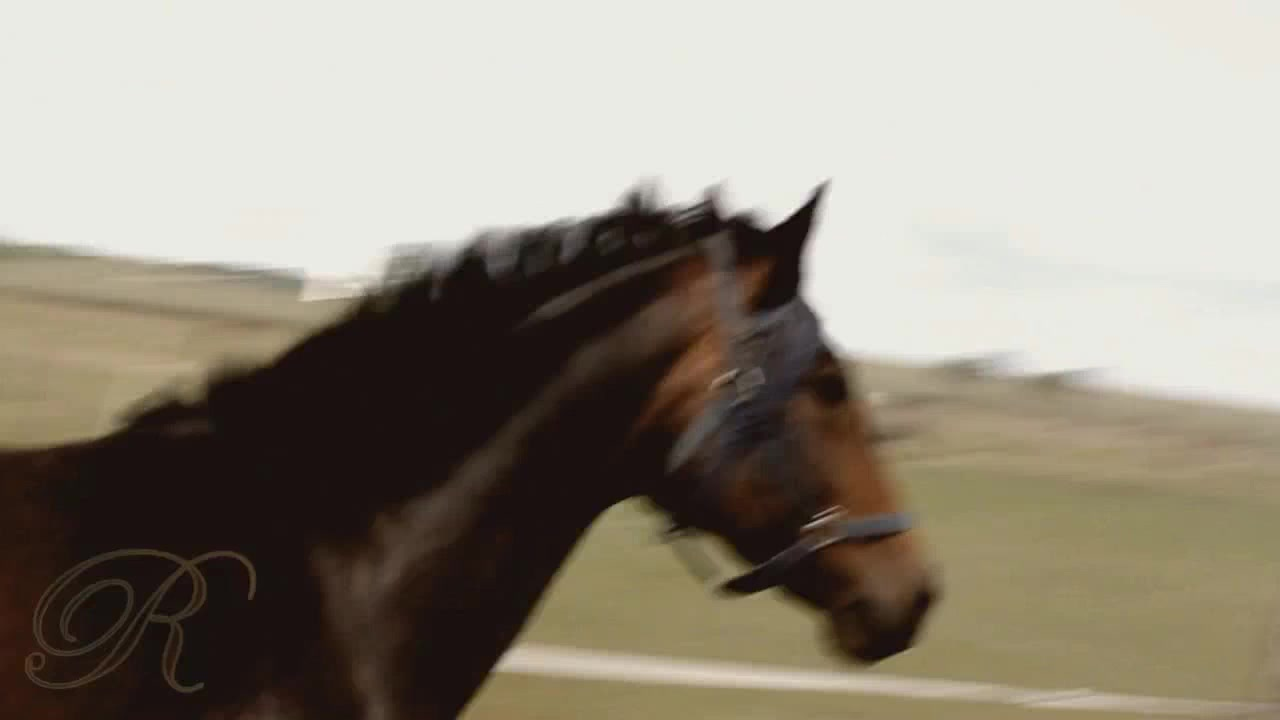horse: (1, 174, 940, 720)
